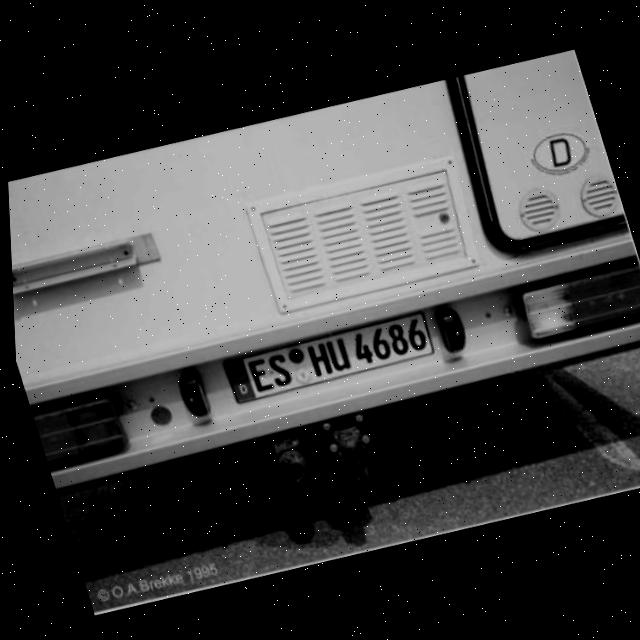license-plates: (225, 314, 434, 403)
